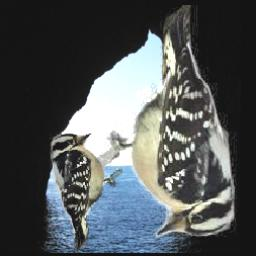Woodpecker: (95, 6, 237, 242), (50, 131, 123, 253)
